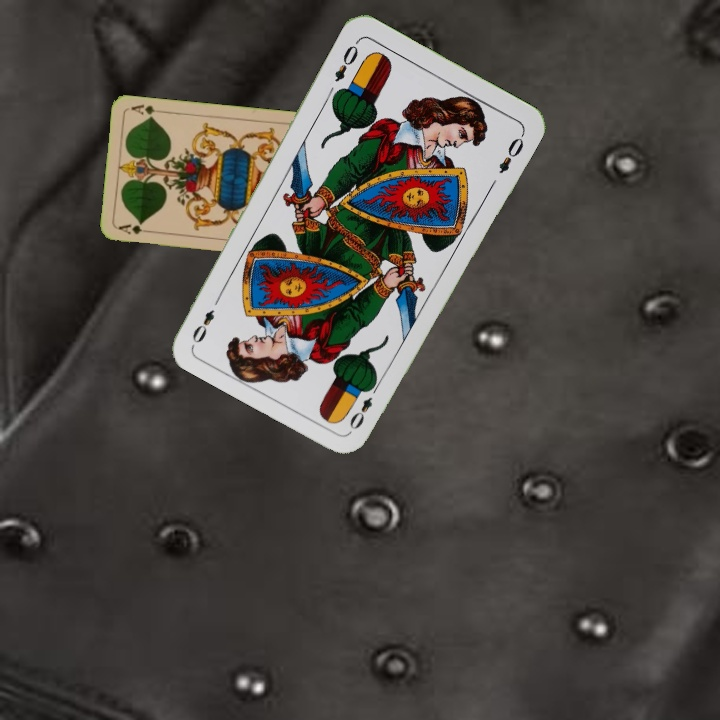EO: (345, 378, 382, 433), (330, 36, 361, 85)
GA: (114, 220, 155, 237)
